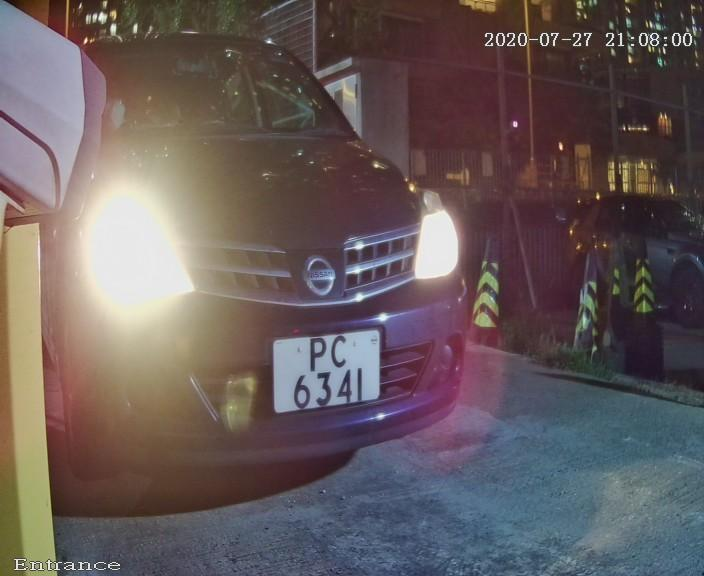privatecar: (29, 13, 513, 497)
